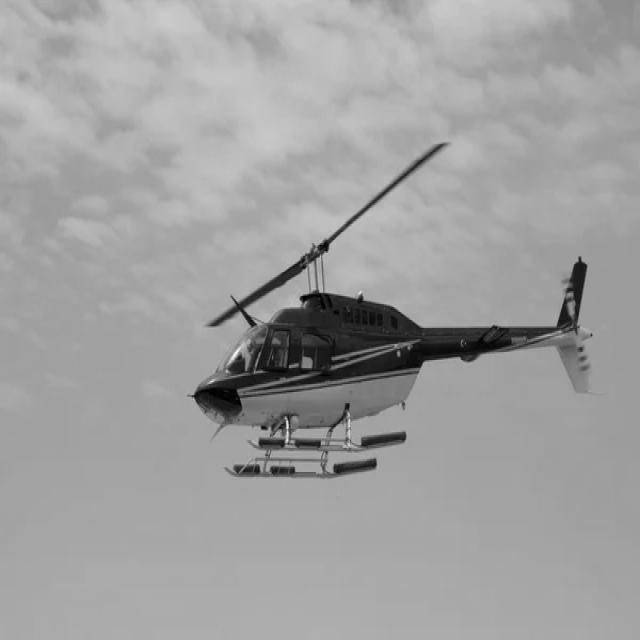Helicopter: (193, 142, 593, 480)
